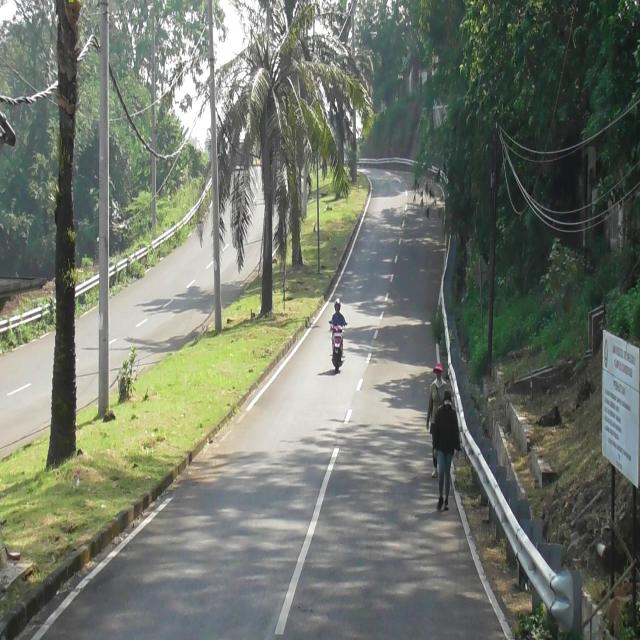motorcycle: (328, 320, 348, 374)
person: (331, 298, 346, 329)
rider_region: (328, 299, 348, 371)
